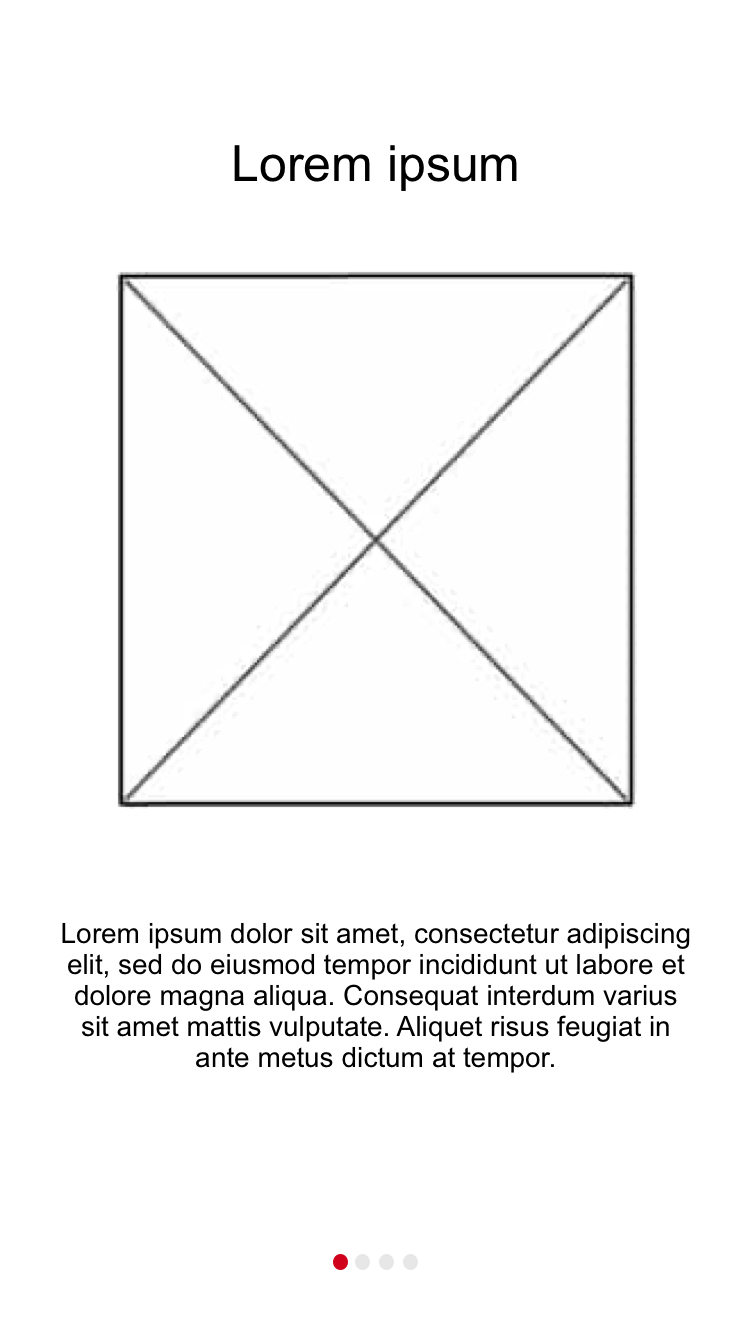Image: (118, 272, 638, 809)
PageIndicator: (333, 1253, 420, 1271)
Text: (62, 922, 691, 1074), (233, 145, 518, 193)
